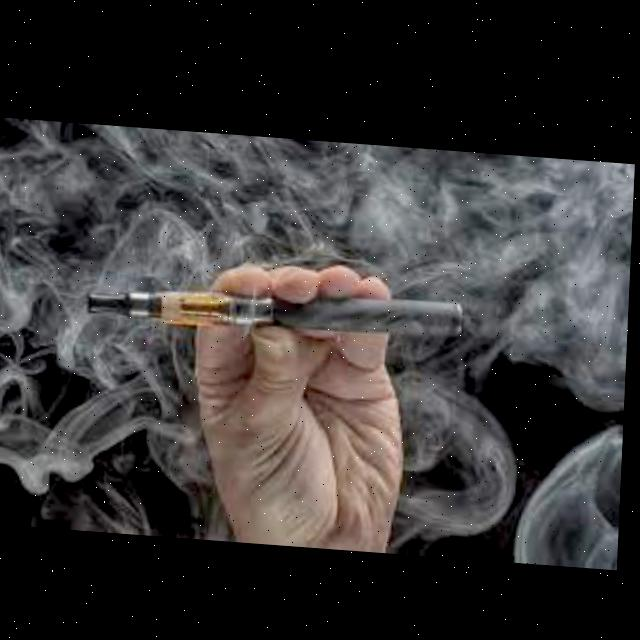vape: (90, 272, 470, 338)
